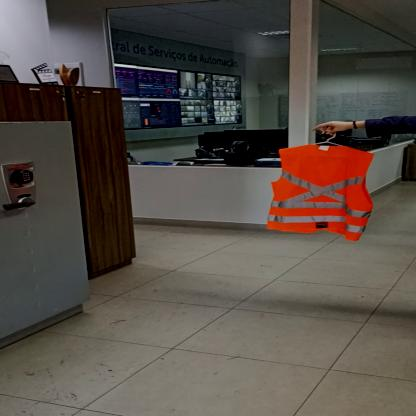colete: (264, 142, 374, 242)
